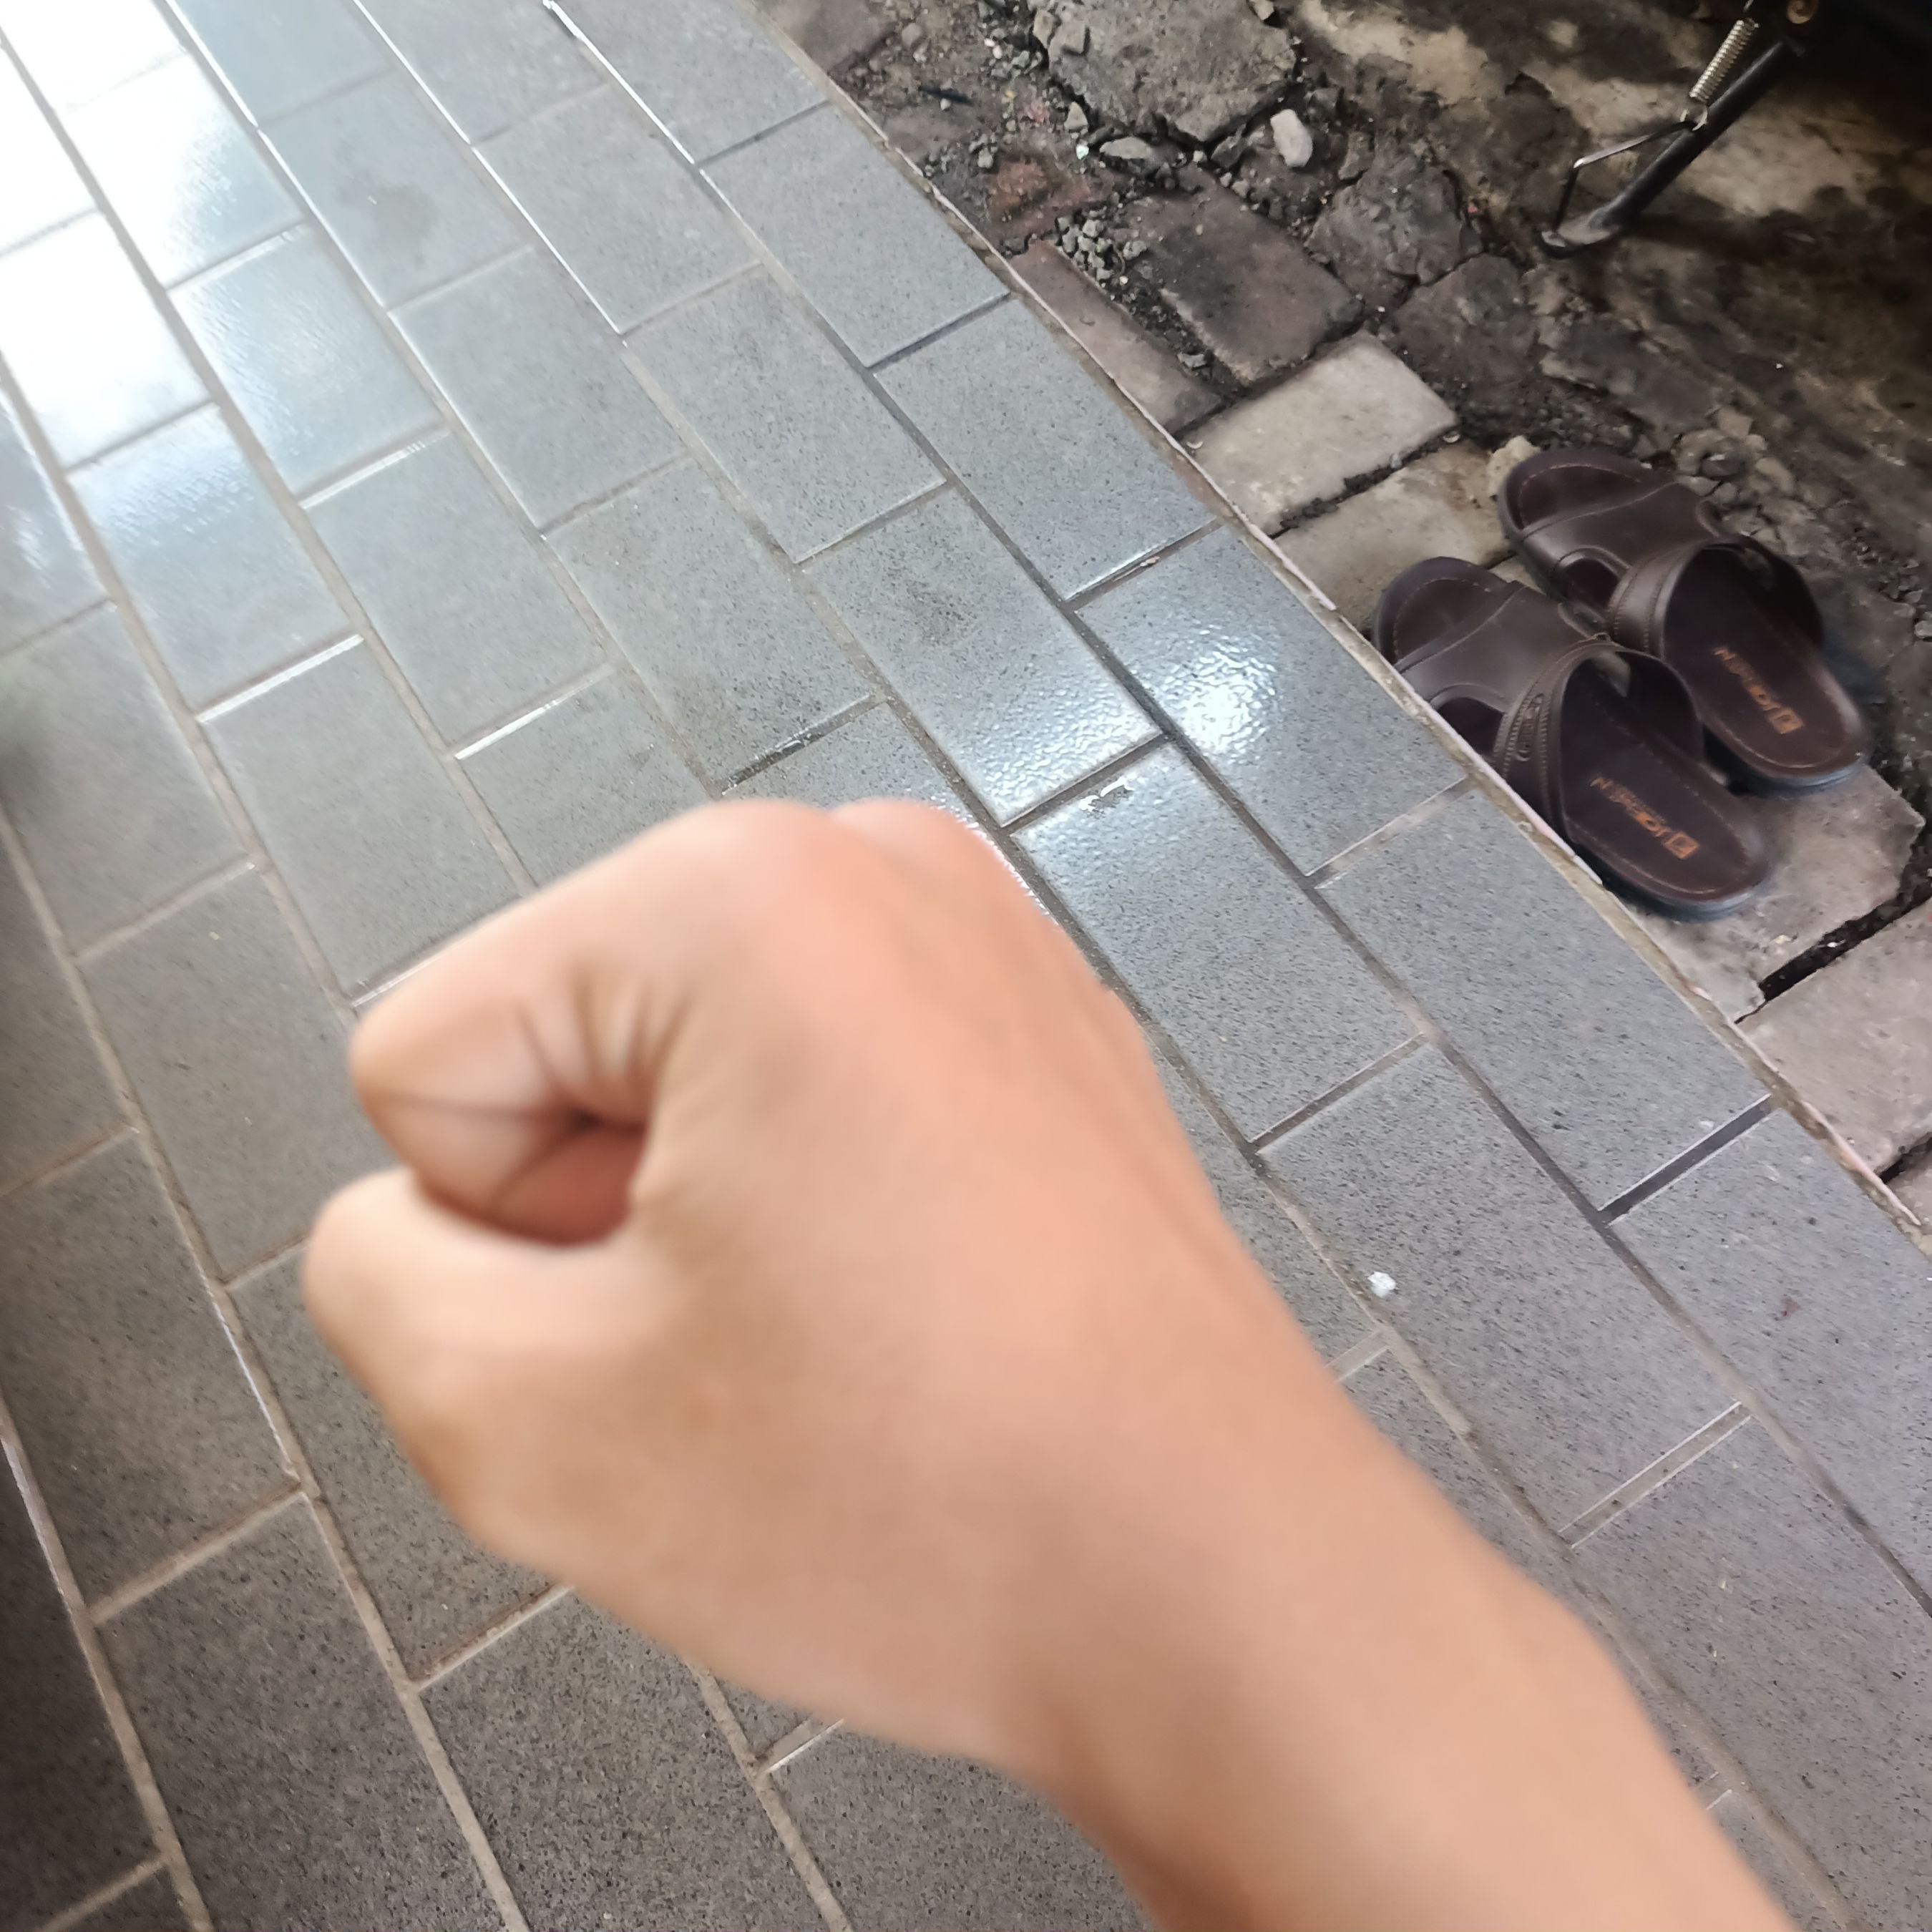rock: (281, 759, 1433, 1822)
